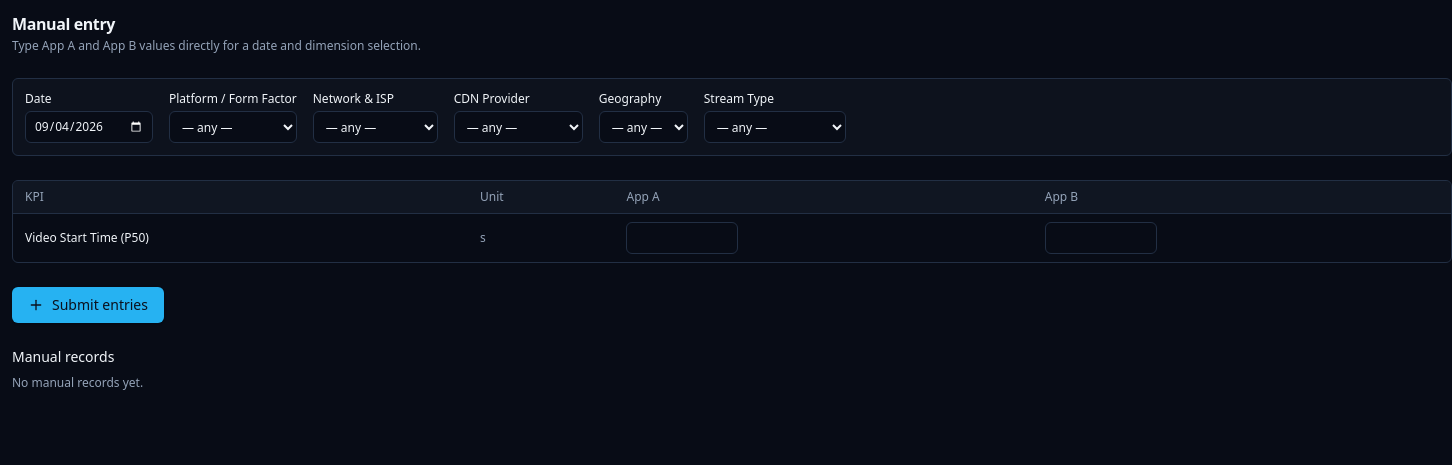
it: ManualEntryForm › flags a non-numeric field and does not submit (Req 8.3)
Type "oops" into the field named "for App A". click: {"x": 682, "y": 238}
box: [626,222,738,254]
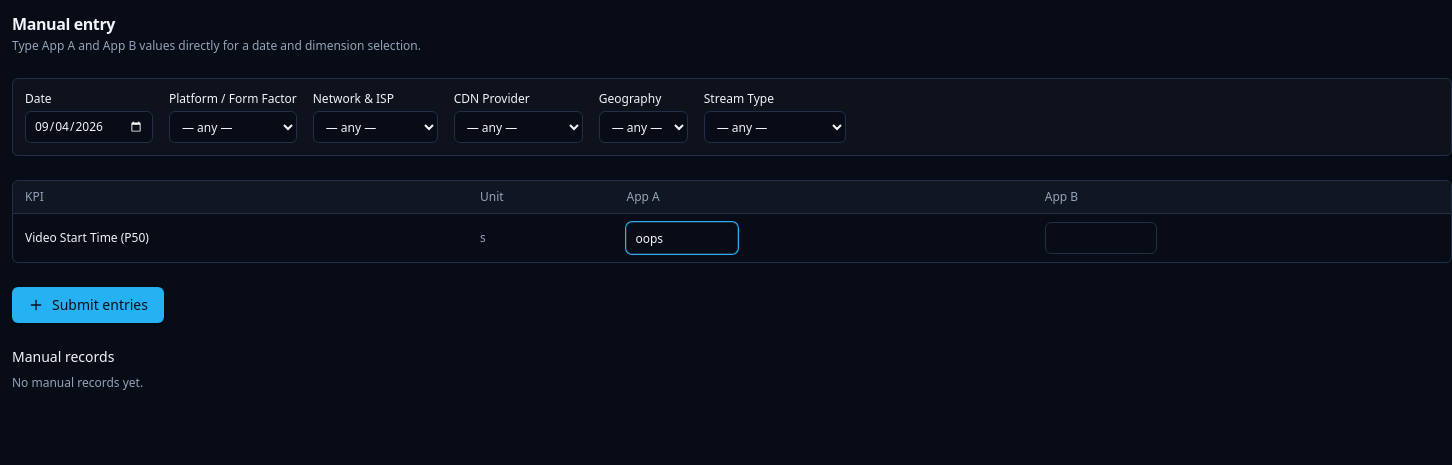
Click the button "Submit entries". click: {"x": 88, "y": 305}
box: [12,287,164,323]
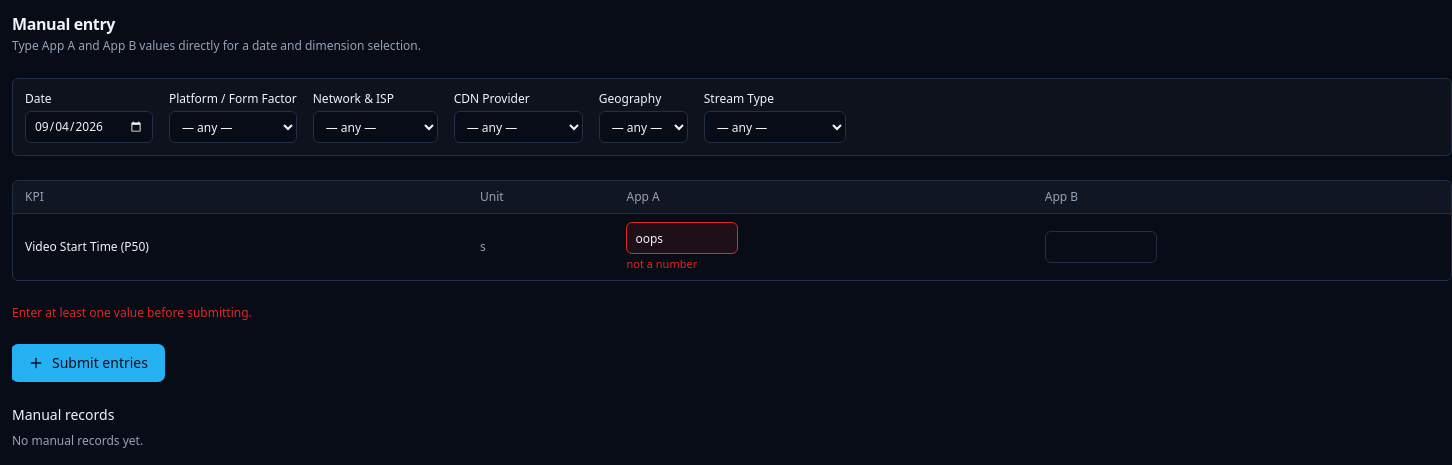
Expected: the text "not a number" is shown, [626,256,697,271]
